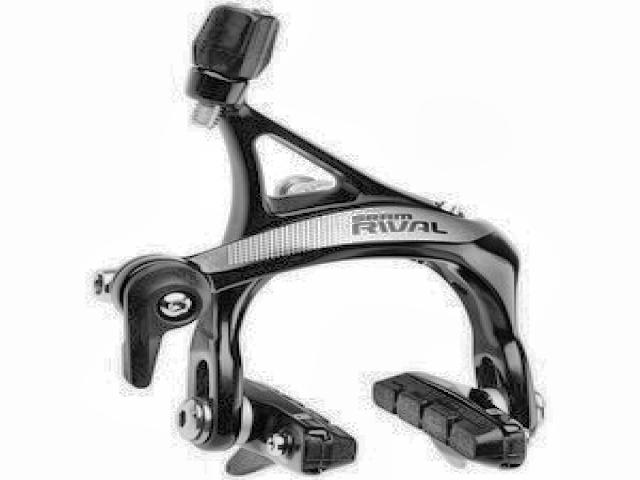rim_brake: (97, 5, 547, 477)
